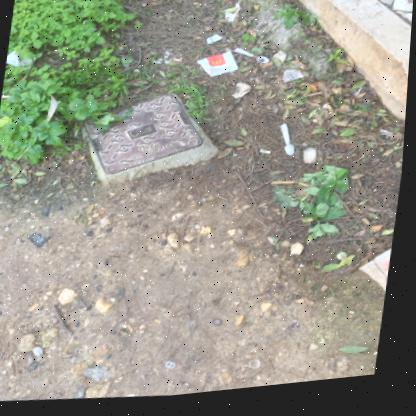Metal: (170, 365, 180, 373)
Paper: (197, 57, 238, 82), (6, 51, 32, 70)
Plastic: (235, 53, 270, 69), (281, 130, 296, 162), (283, 75, 305, 89), (206, 39, 222, 49), (322, 111, 335, 122)
Waste: (261, 155, 272, 160)
